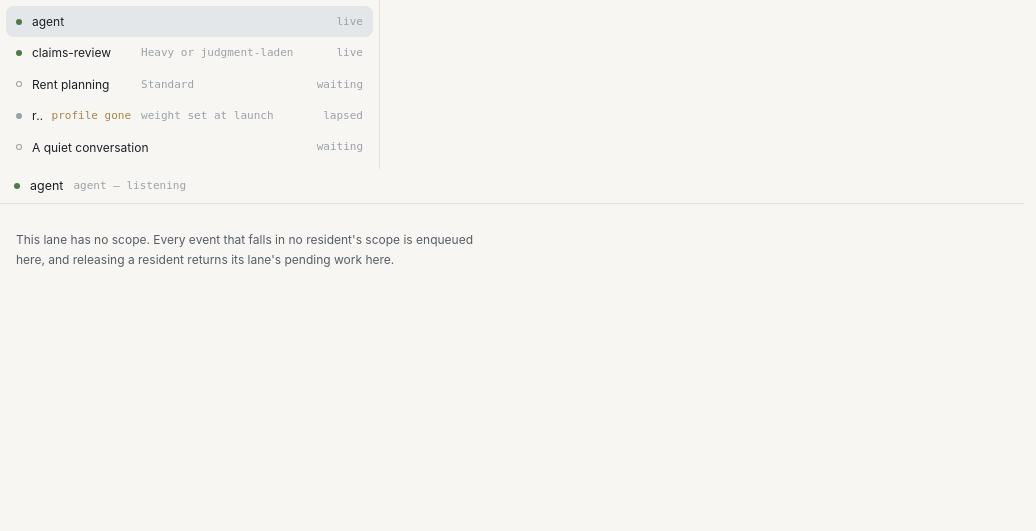
the scope pane › says whether the resident is there, in the lane's own sentence
This screenshot has width=1036, height=531.
Click the button "researcher profile gone weight set at launch lapsed" at x=190, y=116, box [6,100,373,132]
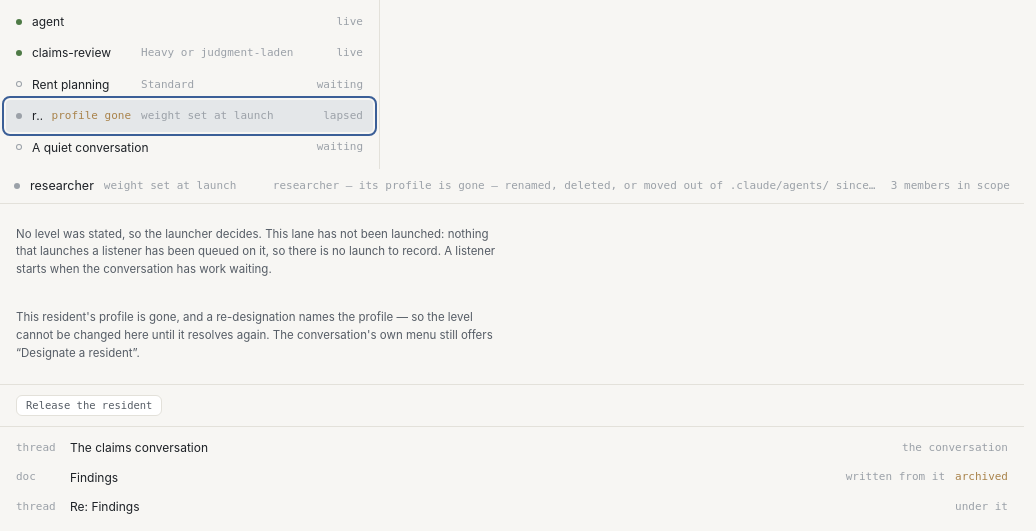
expect the text "profile gone" is shown: met, box [52,108,131,124]
expect the text "no listener right now" is shown: met, box [273,179,1024,192]
